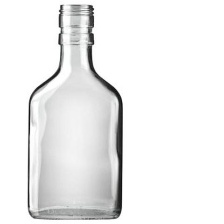bottle: (19, 2, 129, 221)
